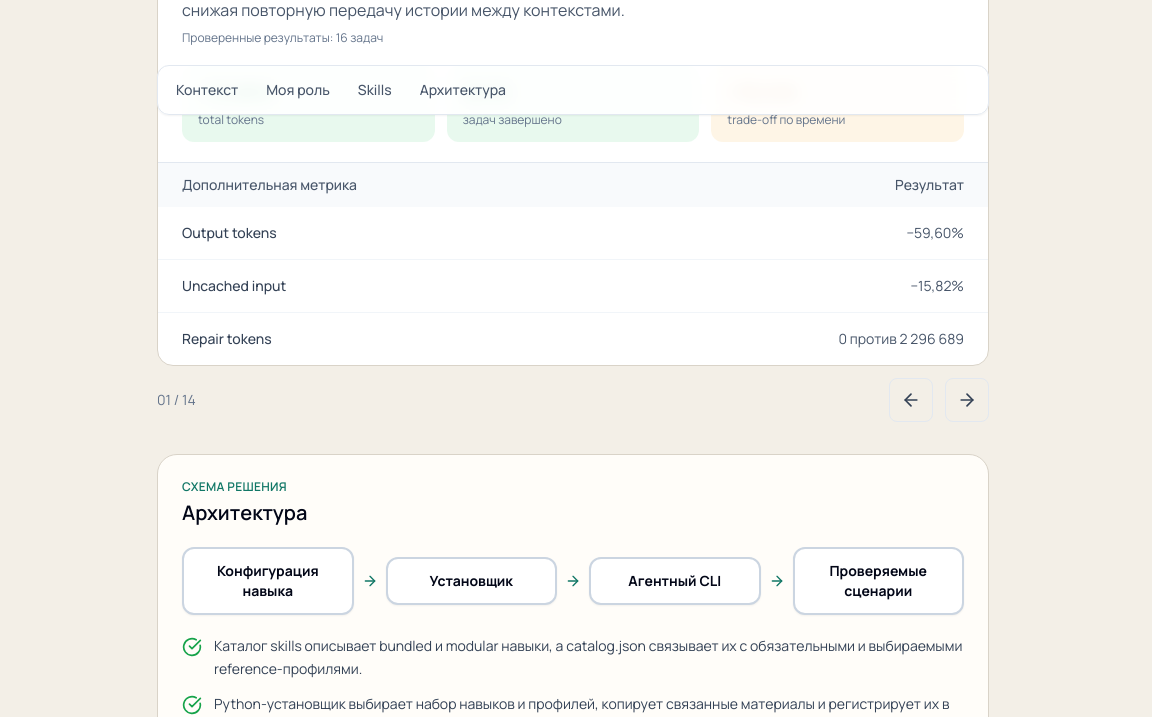
Test: portfolio pages › shows skills with metrics only where they are verified for a repository-only project
(page scrolled)
Expected: the text "01 / 14" is shown, [157,390,196,410]
Expected: the element named "Главные достижения Execution State" is shown, [182,66,964,142]
Click the button named "Следующий skill" at (967, 400), box [945,378,989,422]
(page scrolled)
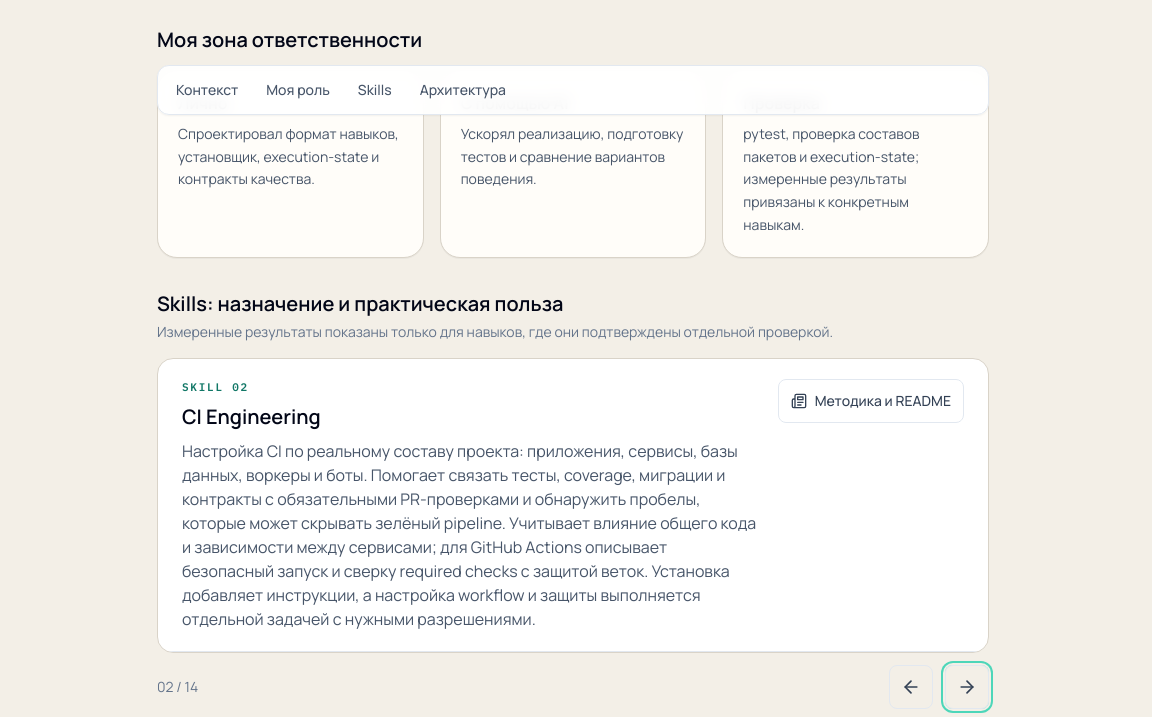
Expected: the heading "CI Engineering" is shown, [182,403,321,430]
Expected: the text "02 / 14" is shown, [157,677,198,697]
